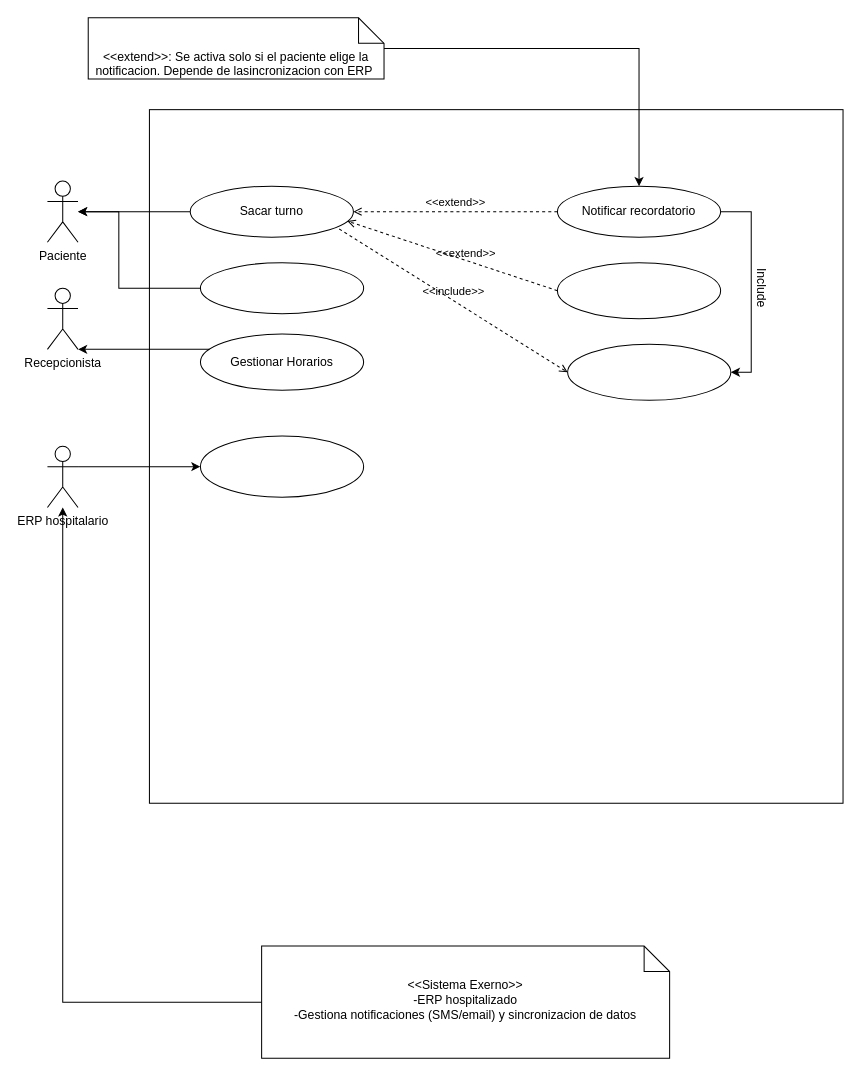
This 861x1076 diagram has some shape labels left out. The shapes that lost their labels are listed below. From the top down, each one's box as (x1, y1, x2, y2) in pixels, then its label:
(199, 262, 364, 314): Cancelar Turno
(556, 262, 721, 319): Pagar turno
(567, 343, 731, 400): Verificar Disponibilidad
(199, 435, 364, 497): Sincronizar con ERP
